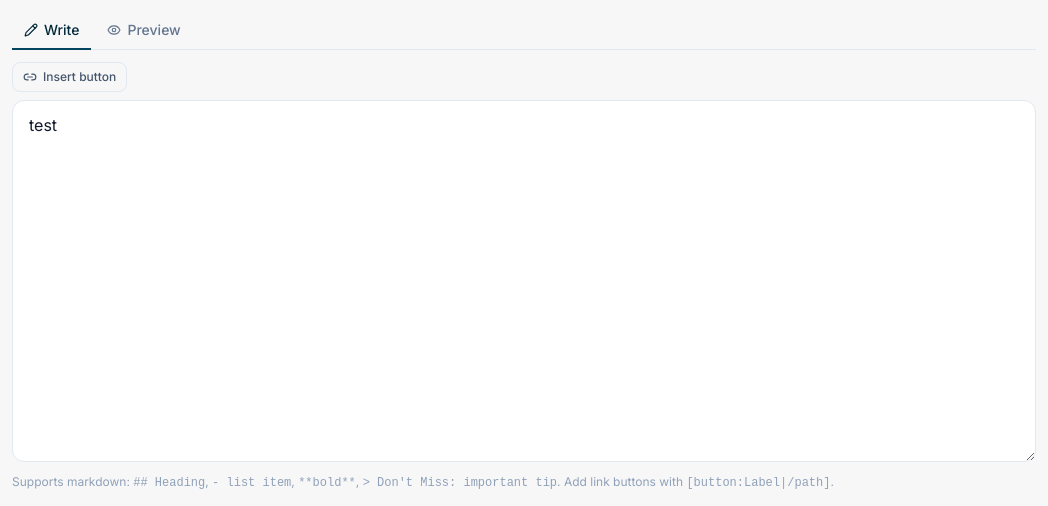
Test: BlogContentEditor › hides markdown hint in preview mode
Click the button "Preview". click: {"x": 144, "y": 31}
box: [96,12,193,50]
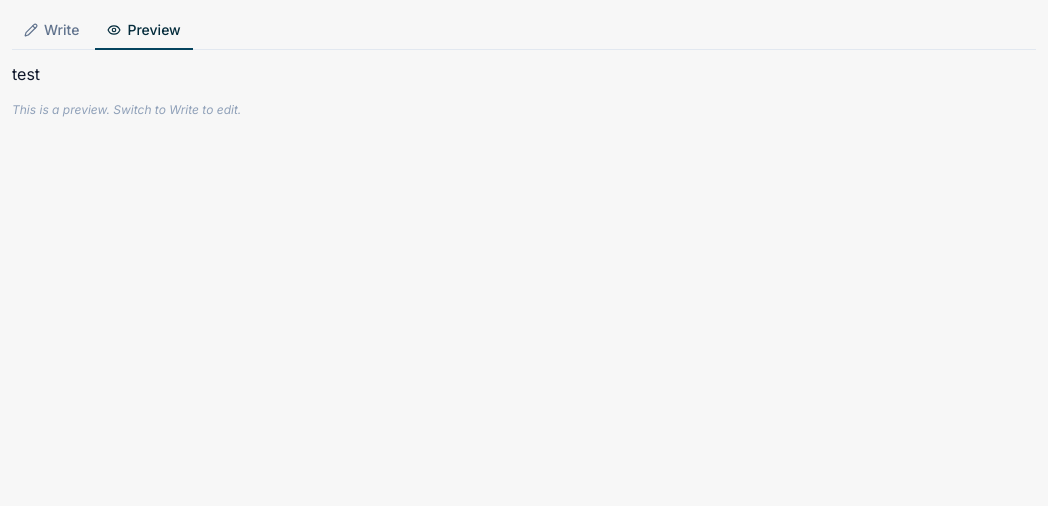
Now the text "Supports markdown" is gone
